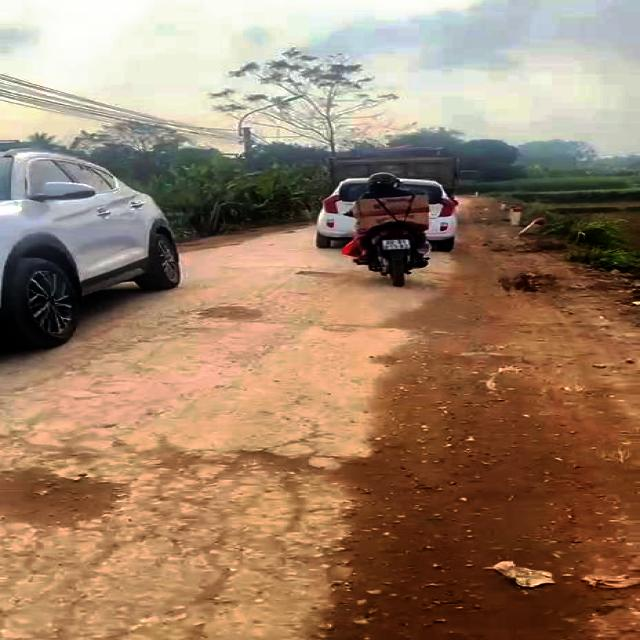pothole: (120, 435, 350, 490), (0, 465, 127, 538), (192, 304, 259, 323)
